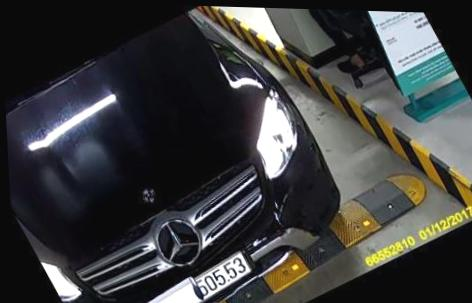License_Plate: (165, 250, 278, 303)
